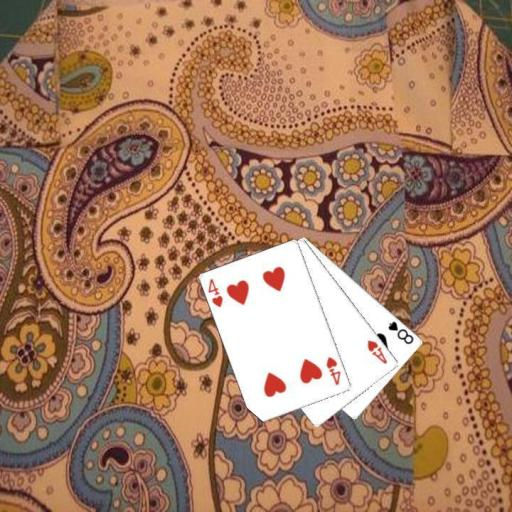card-corner: (386, 318, 416, 345), (364, 336, 389, 366), (205, 275, 225, 309), (324, 353, 342, 387)
